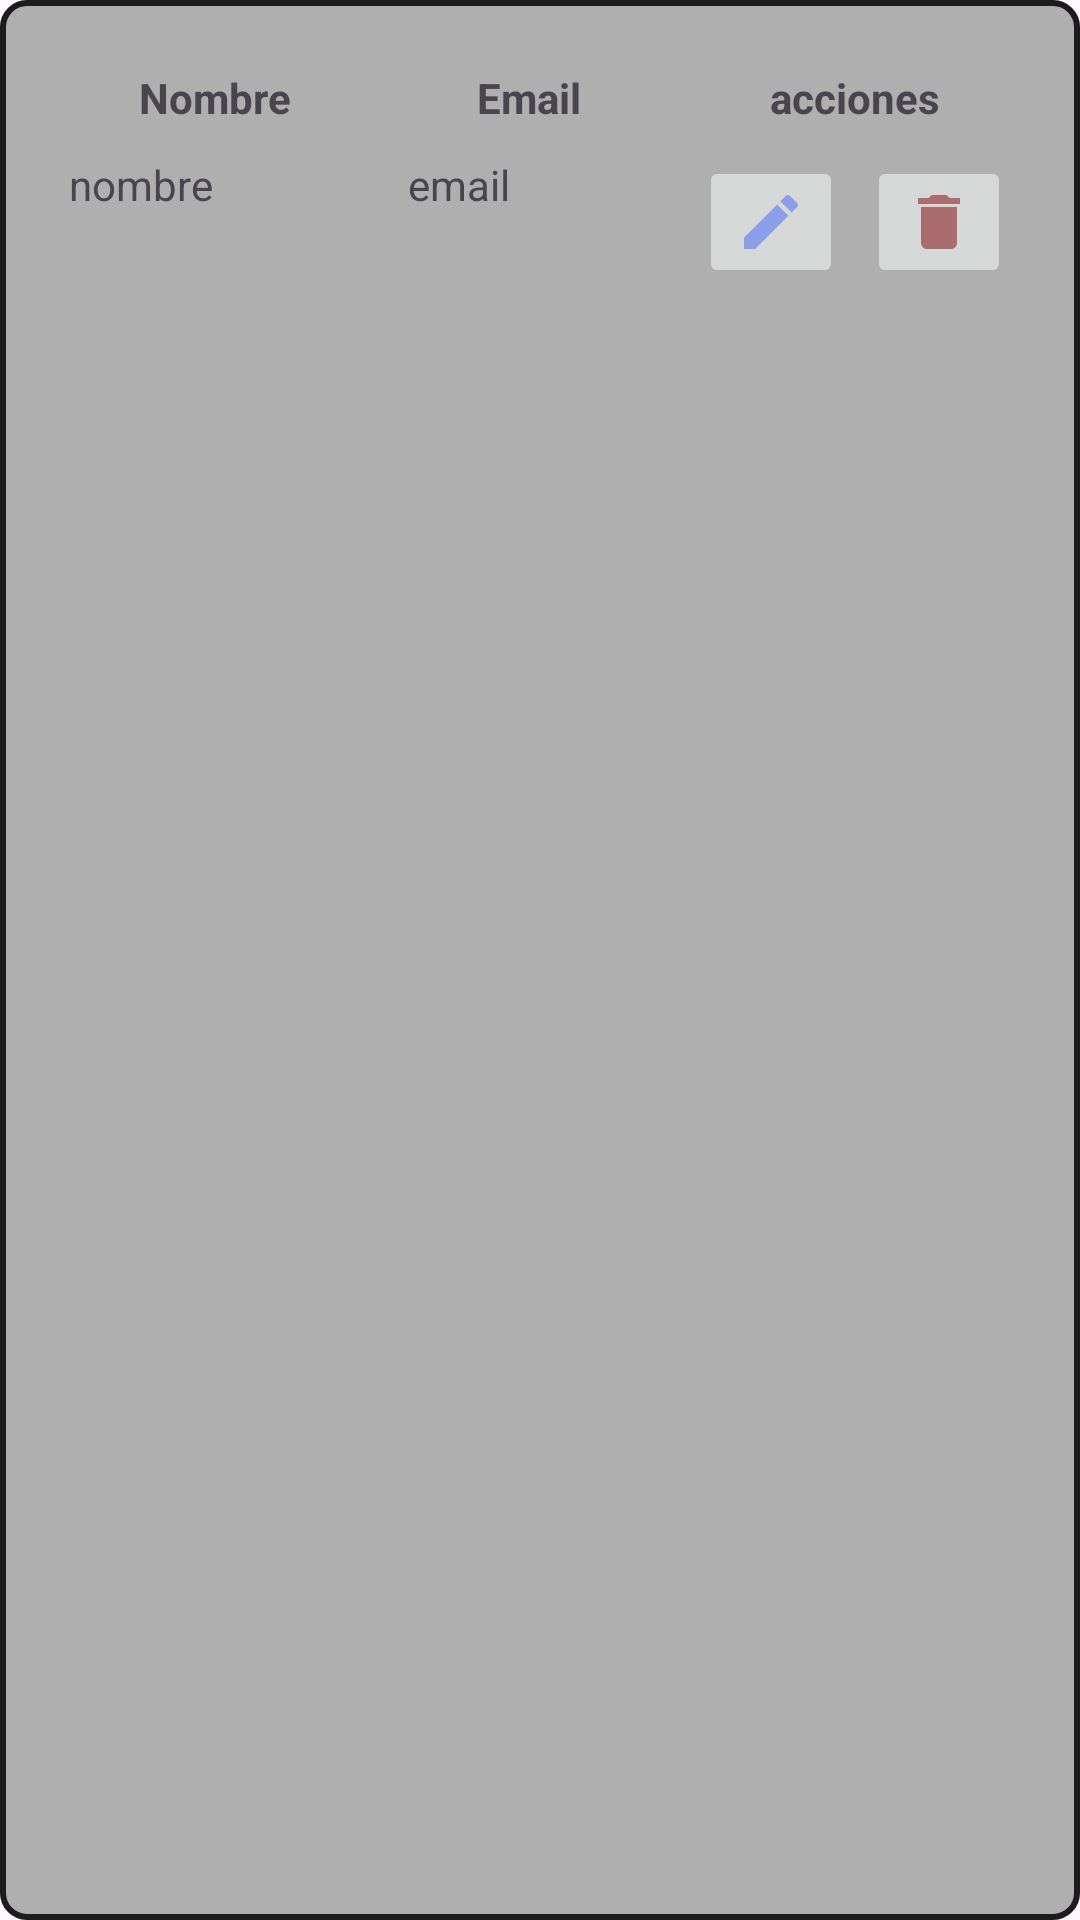

Named icons in this screenshot (1080px x 1920px) and their bounding boxes, (x1, y1, x2, y2):
Editar ejercicio: (711, 174, 831, 270)
Eliminar ejercicio: (879, 174, 999, 270)
